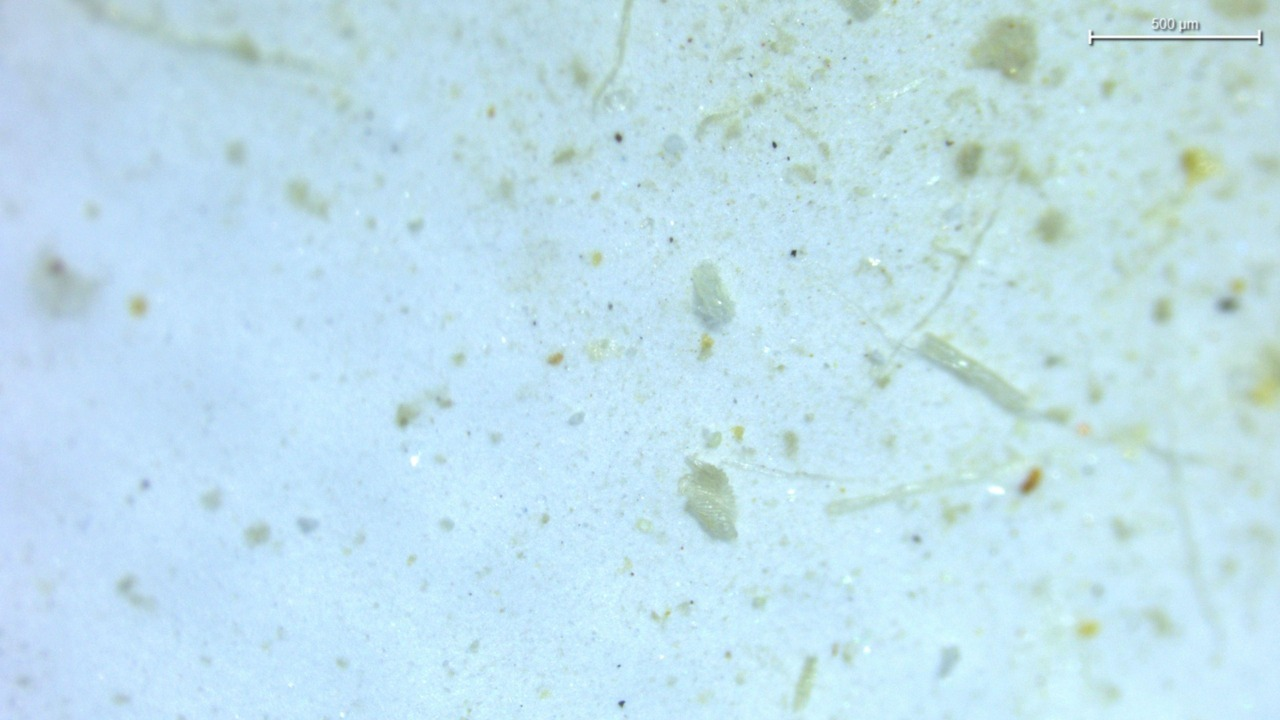microplastic_fragment: (679, 457, 737, 541), (692, 262, 735, 329)
